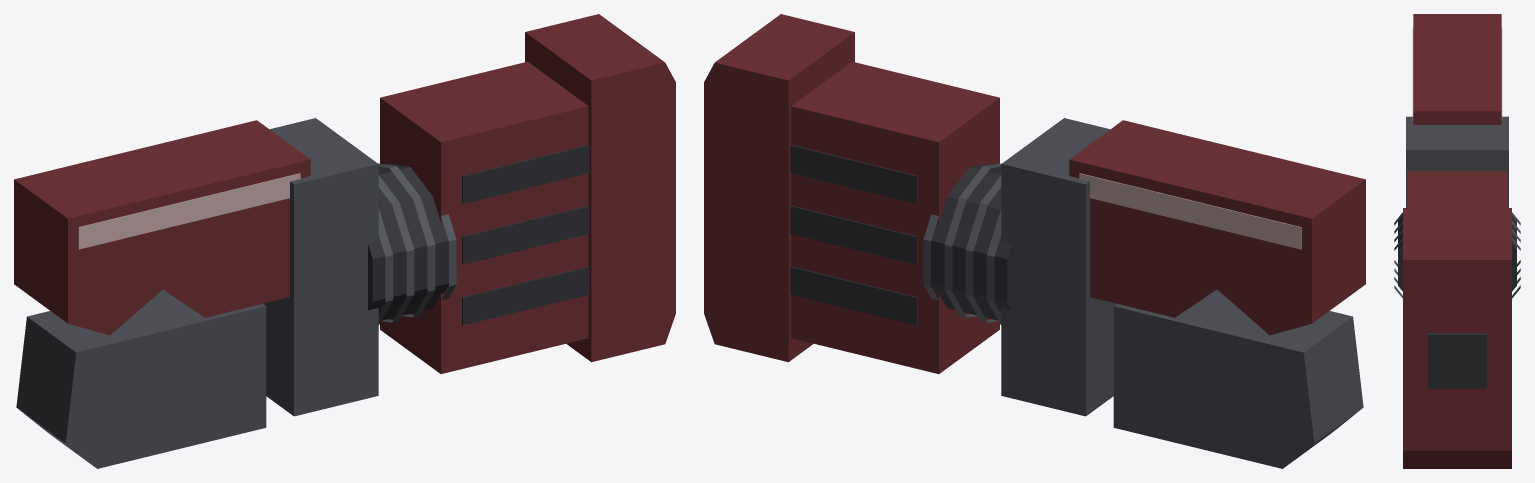
The model's file is beam_graser.obj.
3 views of the same model, side by side, from view 1: azimuth 30°, elevation 25°; view 2: azimuth 150°, elevation 25°; view 3: azimuth 270°, elevation 25° (orthographic). The views are drawn at different scales.
Visible parts, largest first — view 1: beam_graser; view 2: beam_graser; view 3: beam_graser.
Boxes of the visible parts, <box> form: beam_graser: <box>14,14,675,468</box>; beam_graser: <box>704,14,1365,468</box>; beam_graser: <box>1394,14,1520,468</box>.
Bounding box in the file's own units: 0.782 × 0.3468 × 0.1712.
